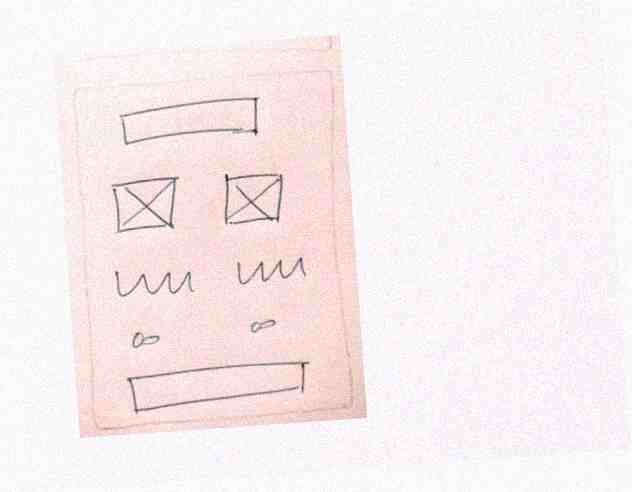image: (102, 169, 189, 242), (215, 163, 290, 233)
switch: (121, 324, 169, 357), (241, 308, 286, 339)
text: (106, 260, 204, 309), (230, 250, 314, 294)
text_input: (115, 354, 314, 418), (112, 93, 267, 151)
